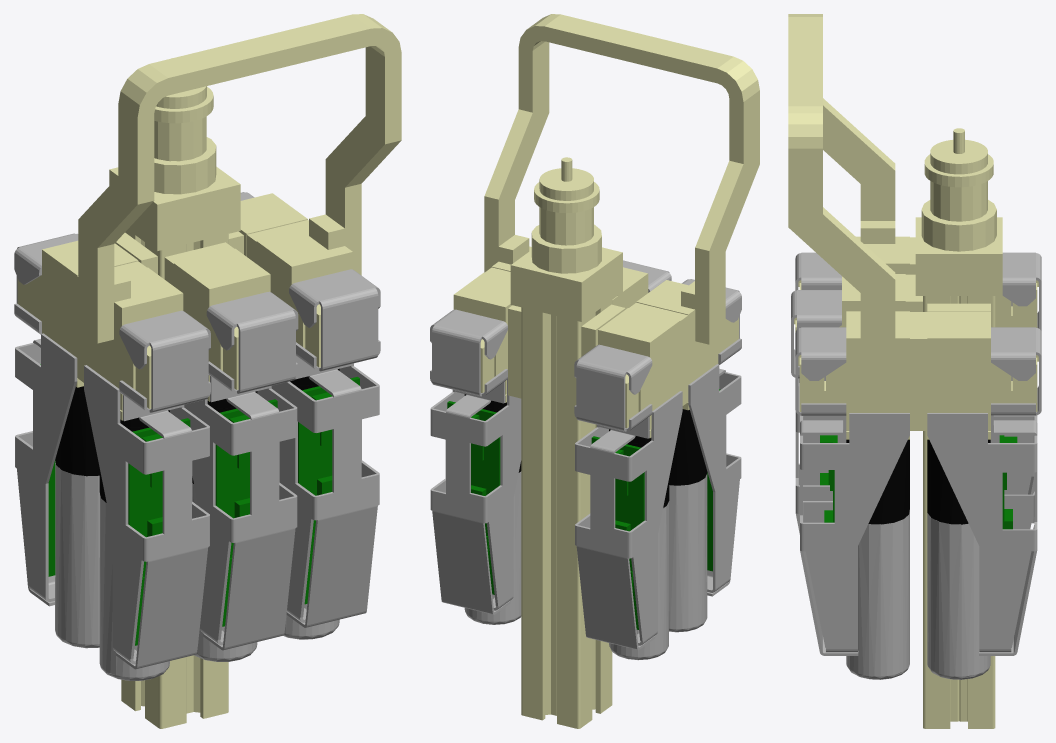
The model's file is LARM_SCAPULA_LINK_mesh.dae.
3 views of the same model, side by side, from view 1: azimuth 30°, elevation 25°; view 2: azimuth 150°, elevation 25°; view 3: azimuth 270°, elevation 25° (orthographic). The views are drawn at different scales.
Parts seen in each view (by area): view 1: LARM_SCAPULA_LINK (×31); view 2: LARM_SCAPULA_LINK (×25); view 3: LARM_SCAPULA_LINK (×32).
Part boxes in pixels (x1=…): LARM_SCAPULA_LINK (×31): x1=14, y1=14, x2=401, y2=728; LARM_SCAPULA_LINK (×25): x1=430, y1=14, x2=759, y2=728; LARM_SCAPULA_LINK (×32): x1=788, y1=14, x2=1041, y2=728.
Size of the model in its own units: 0.095 by 0.2483 by 0.0875.
